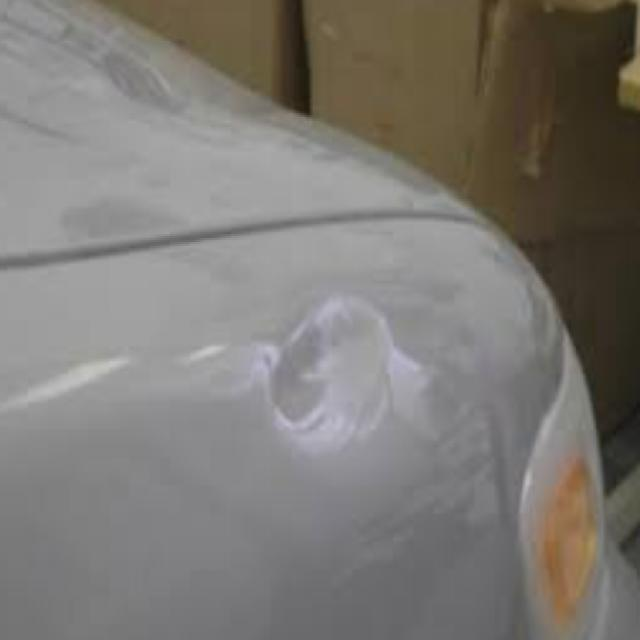dents: (264, 284, 416, 460)
